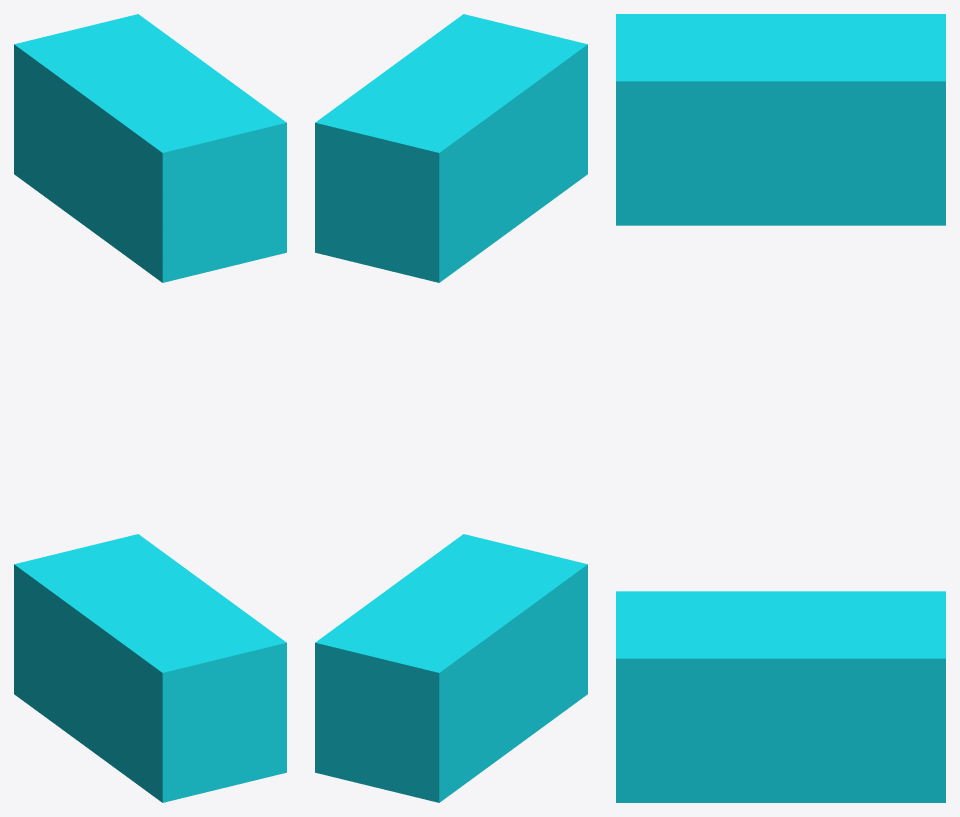
File: colon.glb
3 renders of one model, left to right at view 1: azimuth 30°, elevation 25°; view 2: azimuth 150°, elevation 25°; view 3: azimuth 270°, elevation 25°, orthographic. The views are drawn at different scales.
Visible parts, largest first — view 1: Colon; view 2: Colon; view 3: Colon.
Part boxes in pixels (x1,y1,x2,y2): Colon: [14, 14, 286, 802]; Colon: [315, 14, 587, 802]; Colon: [616, 14, 945, 802].
Bounding box in the file's own units: 0.0917 × 0.4587 × 0.19.
